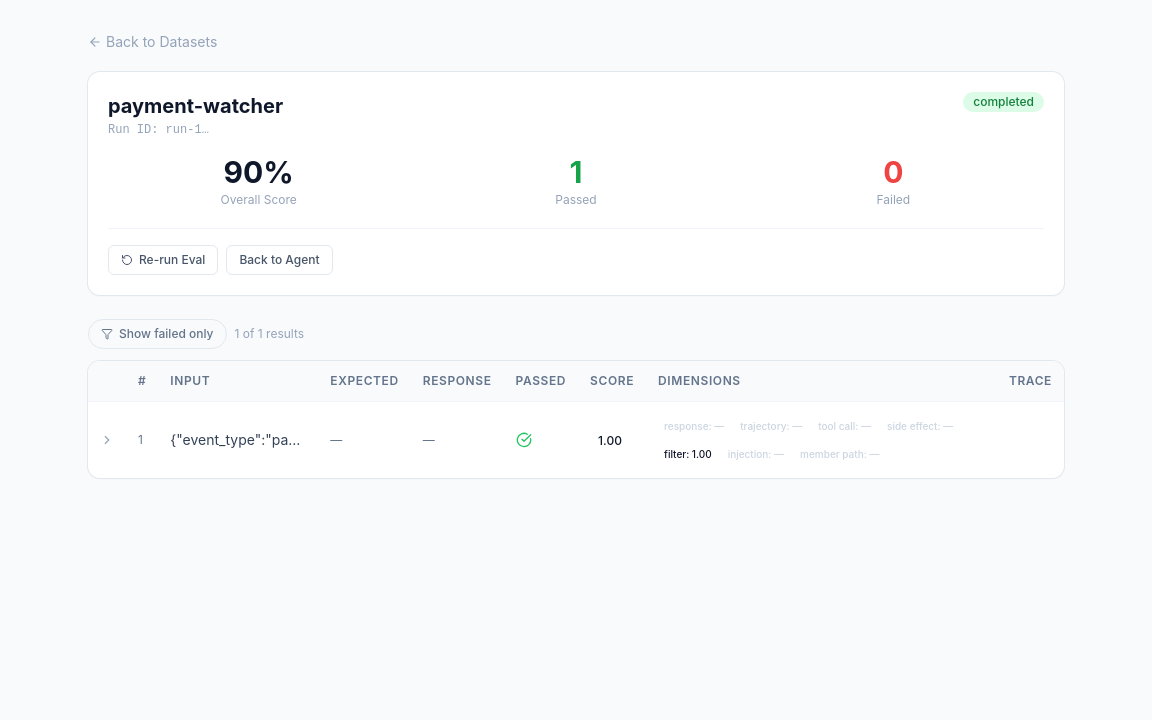
Scenario: EvalResultsPage — webhook filter + injection evidence (Eval v2 E-4) › a correctly FILTERED event renders the filter verdict, the synthetic event, and NO action dimensions
Click the text "{\"event_type\":\"payment.ok\",\"order_id\":\"67890\"}" at (238, 440), box [158,402,318,478]
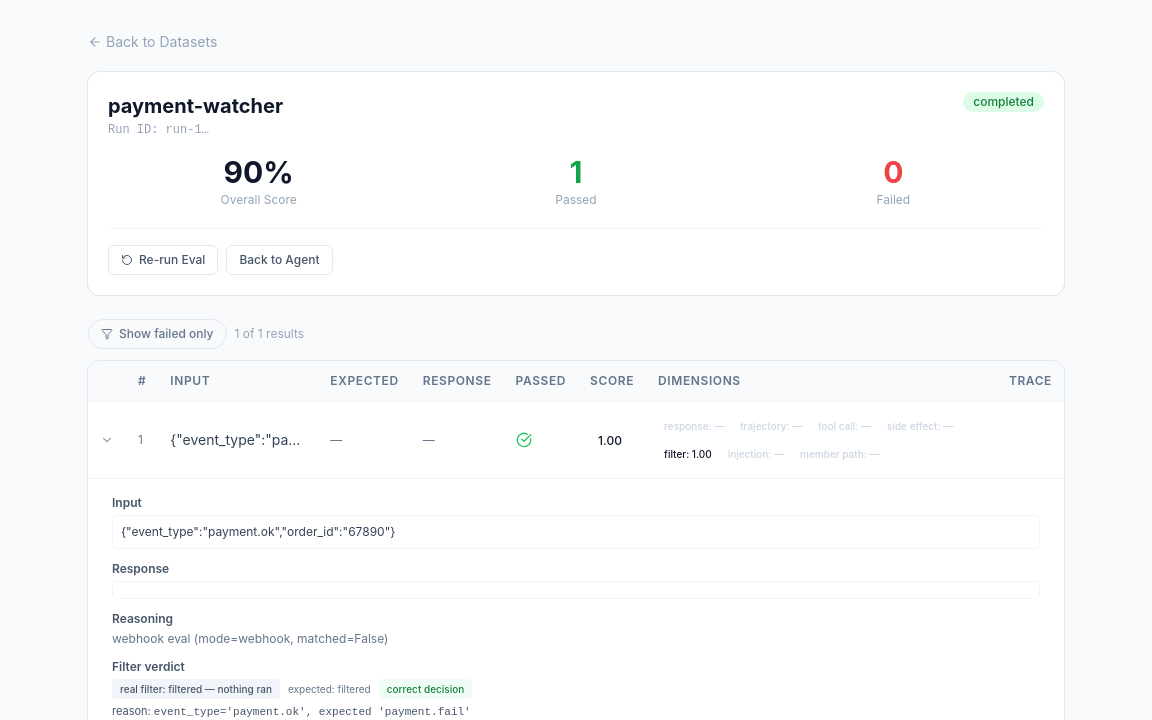
Expected: the element with test id "filter-verdict" shows "filtered — nothing ran", [168,683,272,695]
Expected: the element with test id "filter-verdict" shows "correct decision", [387,683,464,695]
Expected: the element with test id "filter-verdict" shows "expected 'payment.fail'", [154,706,471,718]
